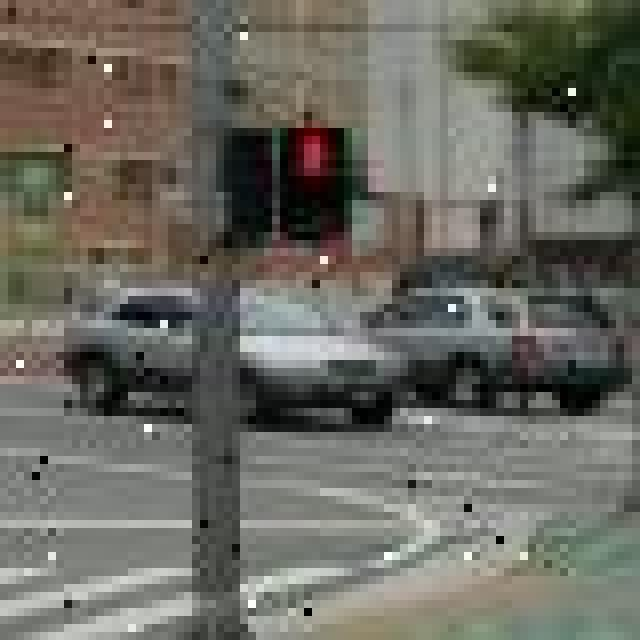redlight: (278, 125, 348, 248)
